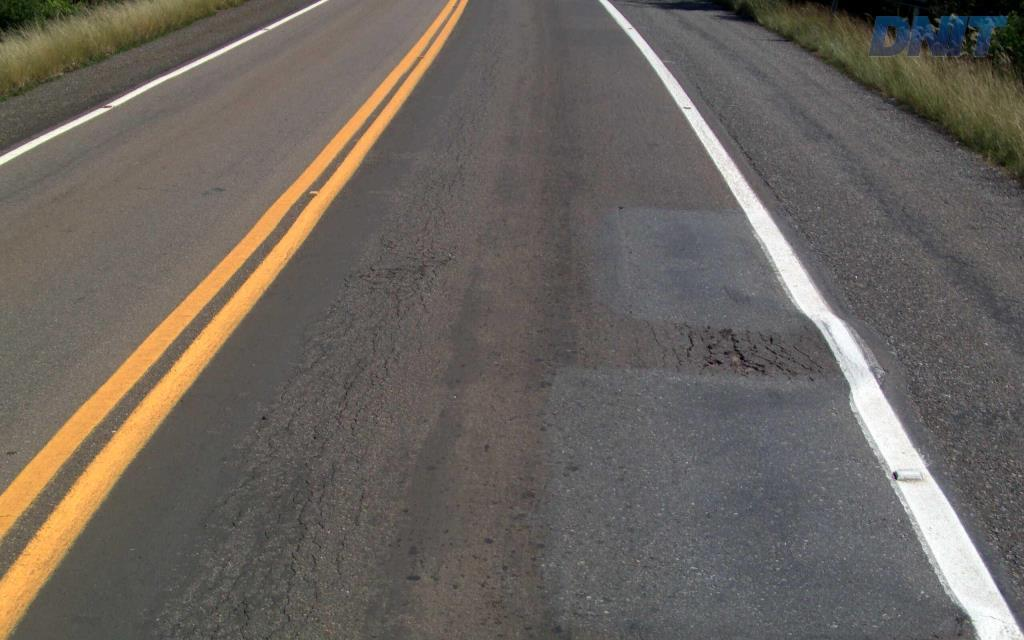crack: (718, 328, 768, 375)
